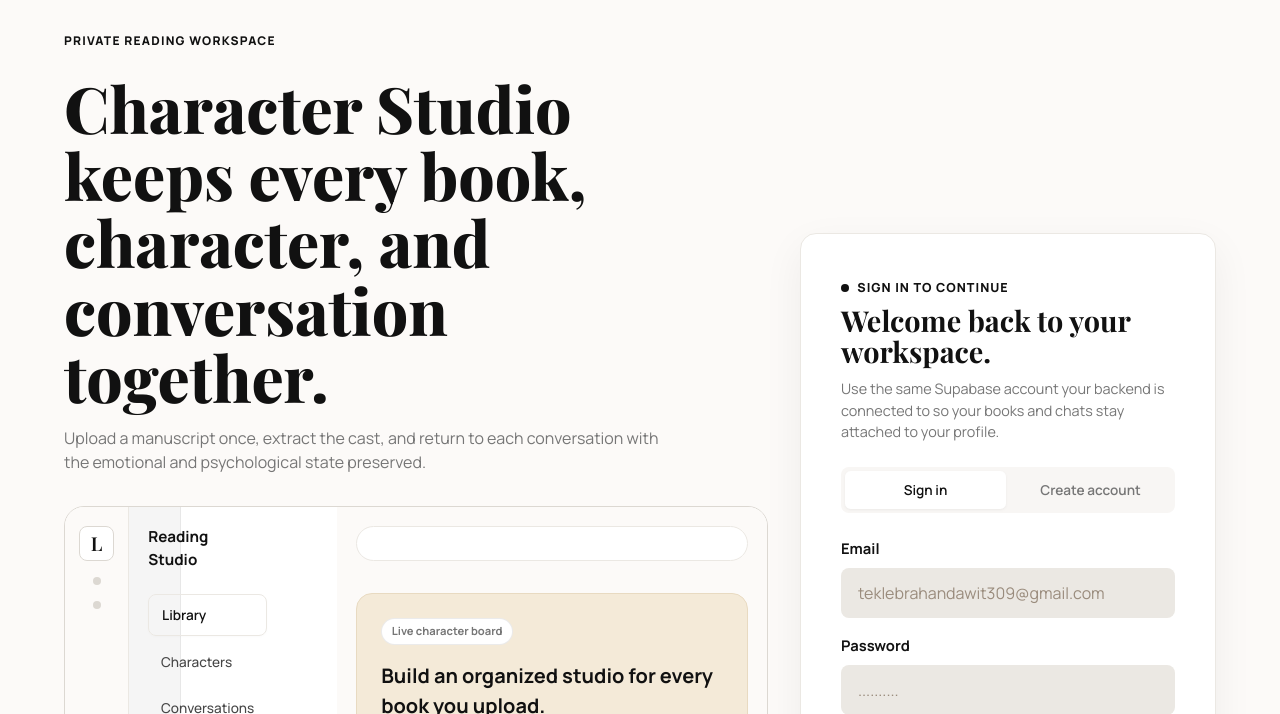
Test case: AuthScreen component › switches between Sign in and Create account tabs
Later steps or results of the test are not shown.
Click the button "Create account": [1090, 490] box [1010,471,1171,509]
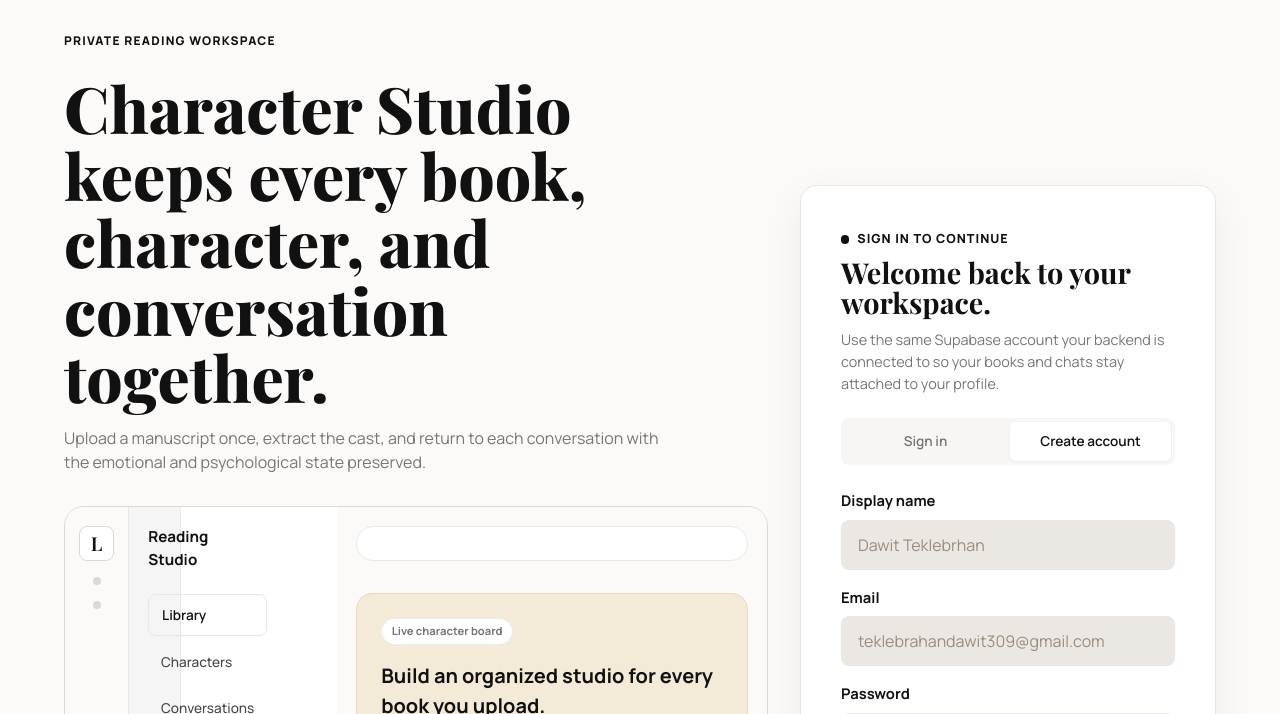
Expected: the field with placeholder "Dawit Teklebrhan" is shown, [841,520,1175,570]
